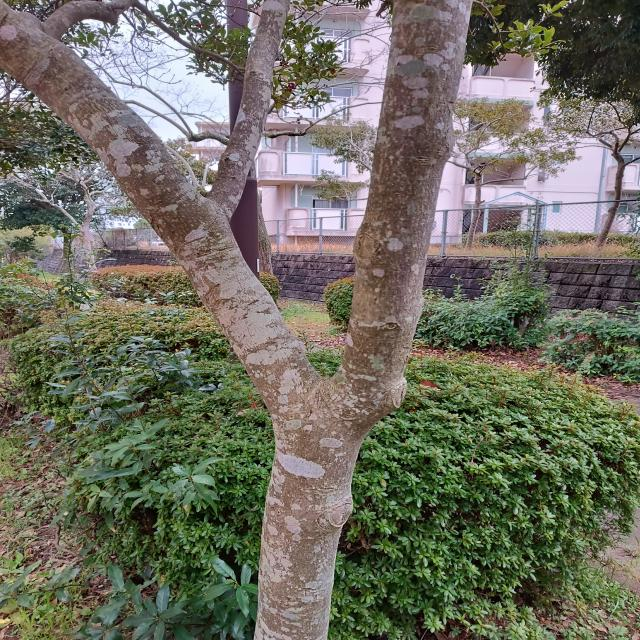Branch: (0, 0, 321, 415), (328, 2, 475, 428)
Twig: (210, 1, 291, 218), (46, 0, 240, 67)
